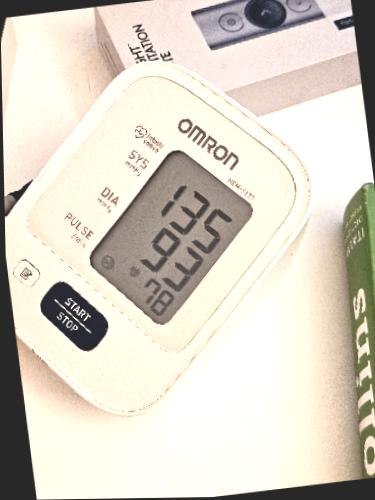bpm: (80, 144, 260, 333)
